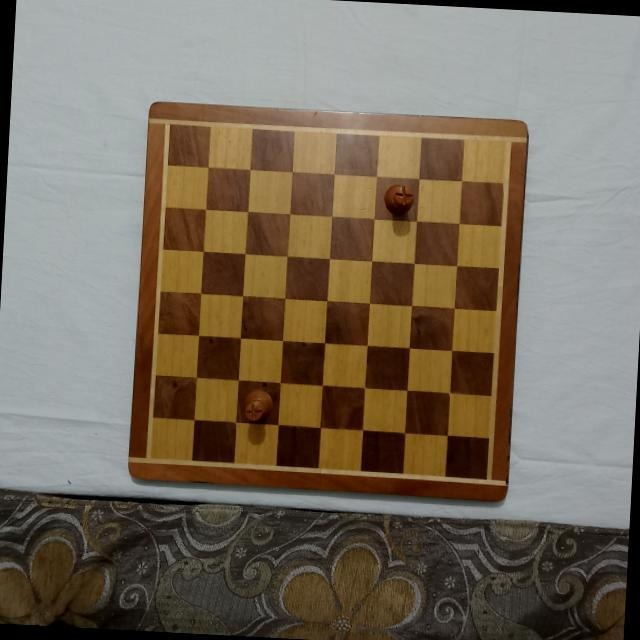white-rook: (383, 182, 417, 218), (242, 387, 274, 425)
